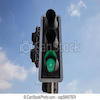green: (47, 32, 76, 74)
